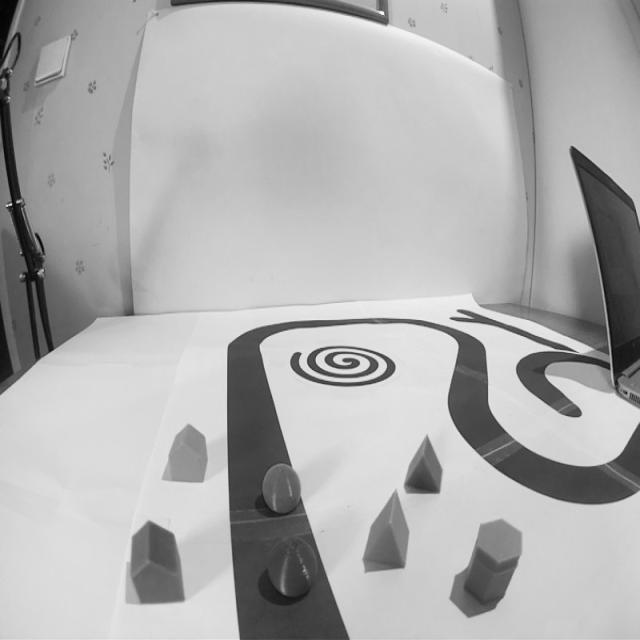ball: (266, 535, 318, 599), (261, 463, 302, 516)
hexagon: (464, 518, 524, 604)
home: (128, 518, 186, 606), (165, 424, 208, 484)
lineStraight: (222, 457, 353, 640)
nest: (291, 343, 397, 387)
triangle: (362, 491, 410, 571), (403, 434, 444, 495)
